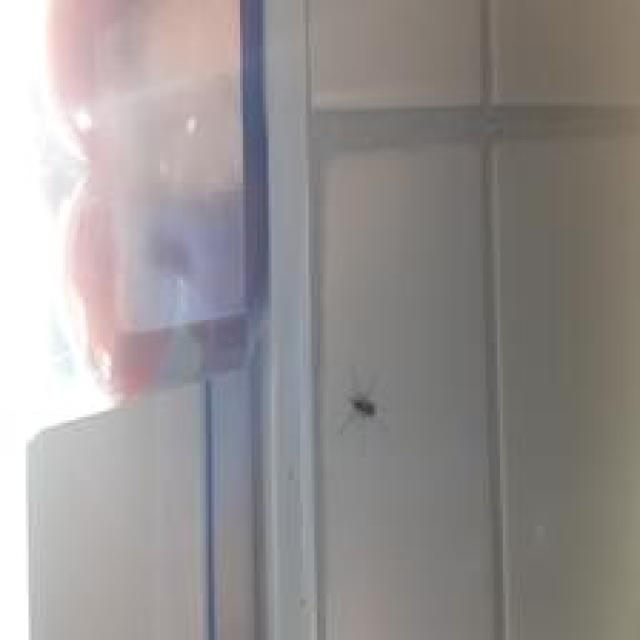Culex: (41, 0, 270, 403)
